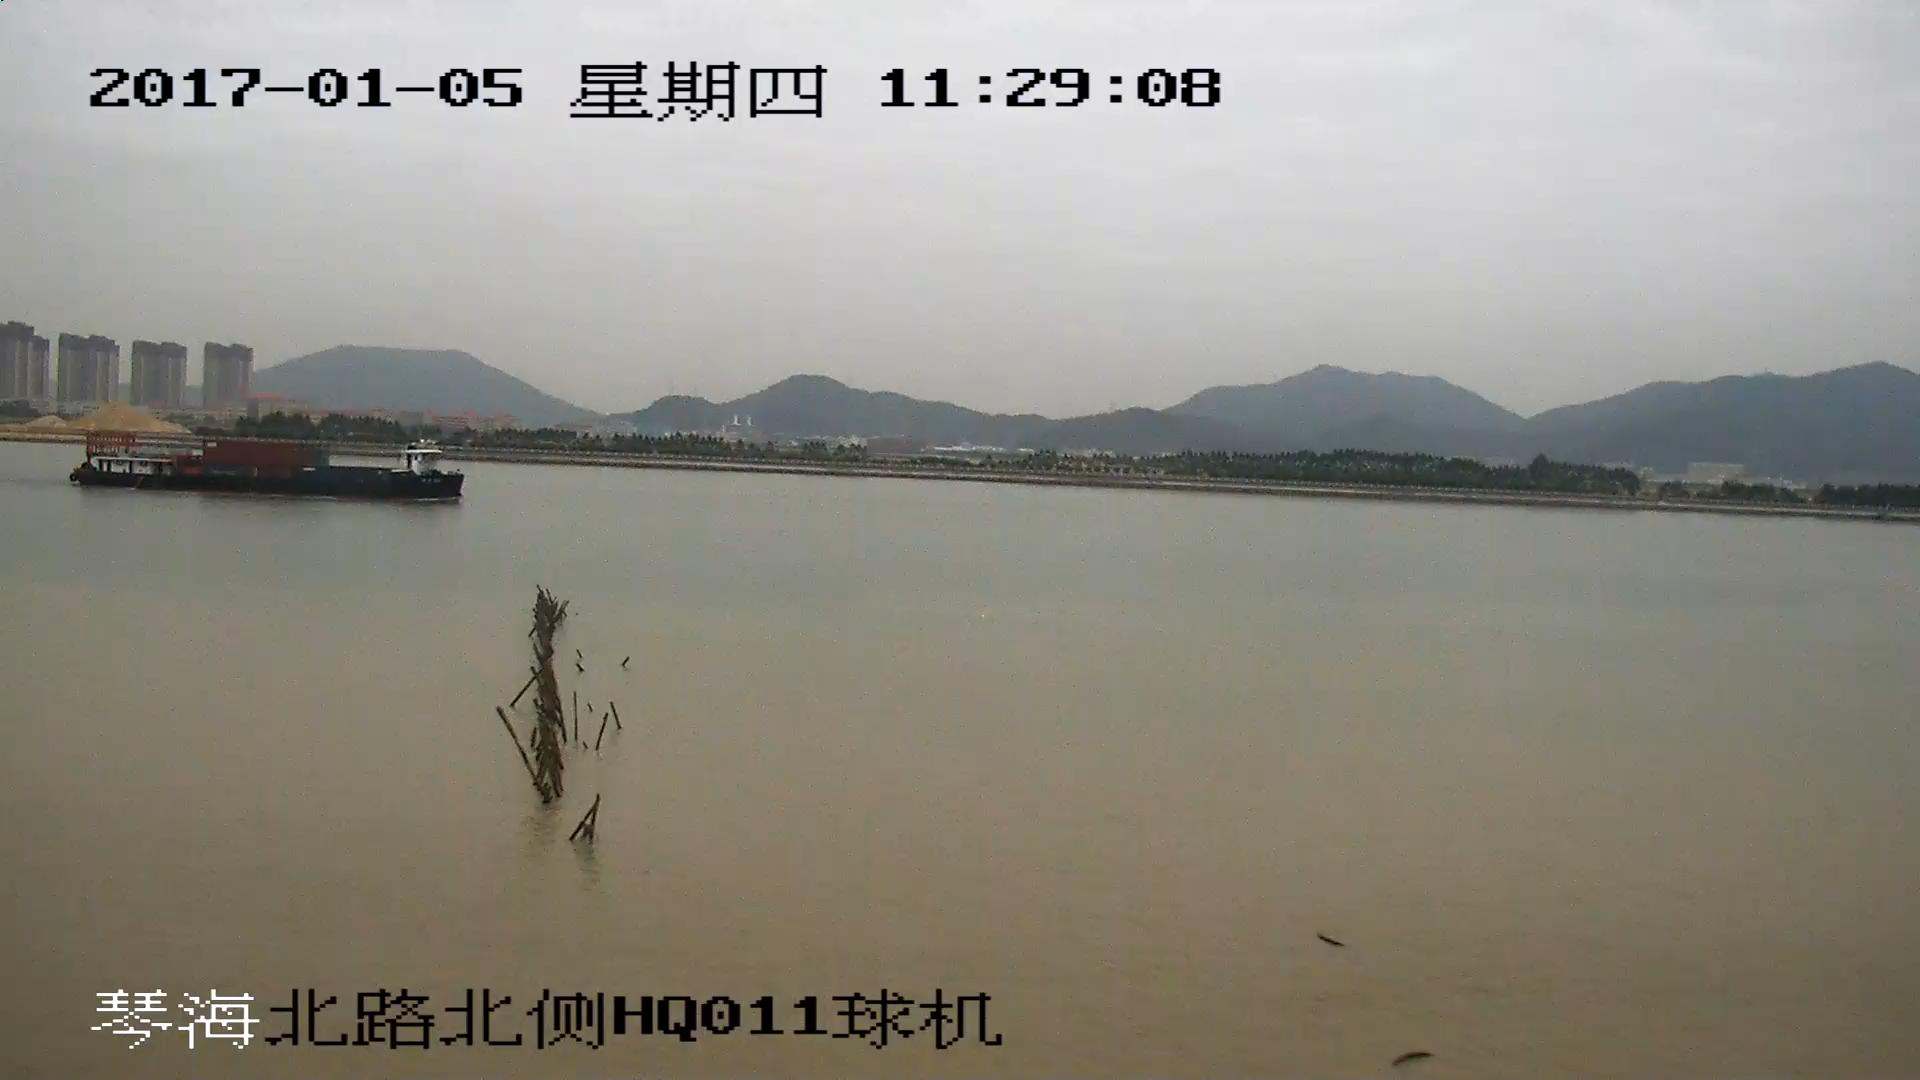container ship: (69, 431, 466, 500)
